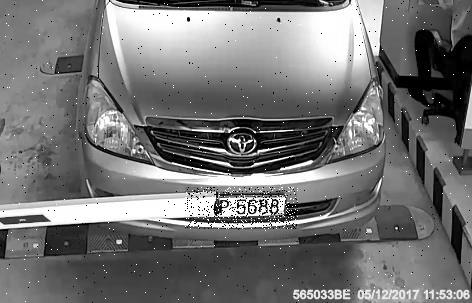License-plate: (187, 188, 300, 230)
